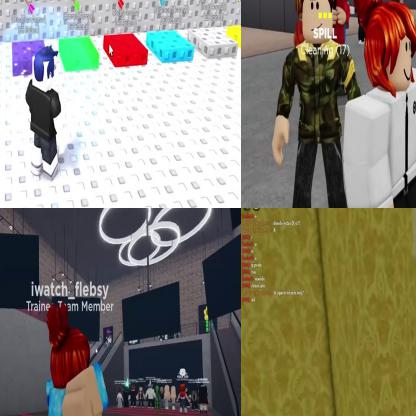Roblox-Avatar: (272, 1, 364, 208), (344, 1, 416, 208), (20, 302, 111, 416), (26, 46, 66, 183), (327, 1, 352, 45), (178, 384, 193, 415), (146, 381, 158, 410), (199, 386, 211, 415), (137, 386, 147, 410), (130, 385, 139, 408), (117, 386, 125, 410), (155, 386, 162, 411), (165, 386, 172, 410), (172, 386, 178, 411)
